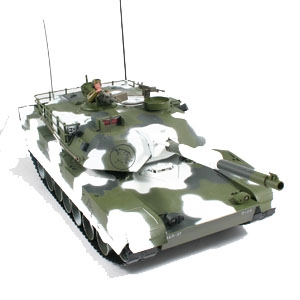Battle Tank: (16, 74, 286, 266)
